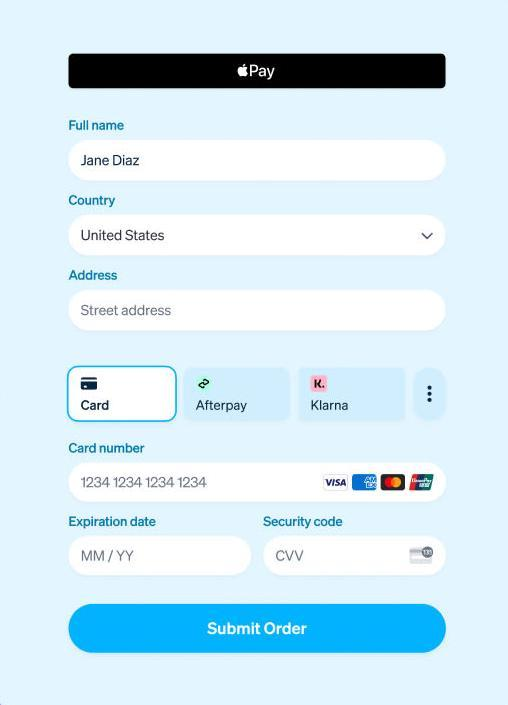button: (71, 601, 449, 654), (67, 51, 449, 92), (69, 366, 175, 422), (299, 370, 407, 424), (183, 369, 290, 423)
dropdown: (71, 213, 449, 258)
icon: (425, 384, 440, 409)
input: (70, 285, 449, 336), (70, 461, 446, 503), (69, 140, 449, 181), (266, 536, 446, 581), (69, 539, 257, 575)
label: (69, 511, 161, 531), (261, 511, 349, 531), (66, 438, 149, 456), (68, 115, 127, 134), (67, 193, 119, 212), (68, 267, 120, 285)
